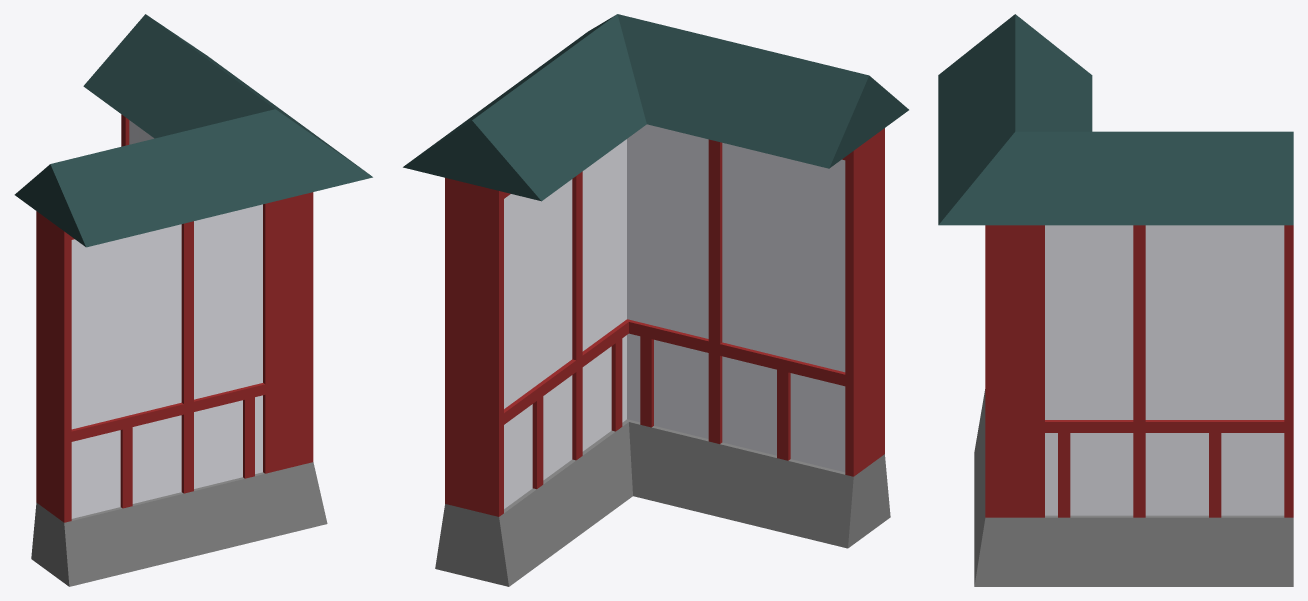
The model's file is Asian_Prop_Building_Fence_Wall_Framed_Corner_01.FBX.
The picture shows the model from 3 angles, left to right: view 1: azimuth 30°, elevation 25°; view 2: azimuth 150°, elevation 25°; view 3: azimuth 270°, elevation 25°; orthographic projection. The views are drawn at different scales.
Visible parts, largest first — view 1: Asian_Prop_Building_Fence_Wall_Framed_Corner_01; view 2: Asian_Prop_Building_Fence_Wall_Framed_Corner_01; view 3: Asian_Prop_Building_Fence_Wall_Framed_Corner_01.
Boxes of the visible parts, bbox=[...] form: Asian_Prop_Building_Fence_Wall_Framed_Corner_01: bbox=[14, 14, 372, 586]; Asian_Prop_Building_Fence_Wall_Framed_Corner_01: bbox=[403, 14, 908, 586]; Asian_Prop_Building_Fence_Wall_Framed_Corner_01: bbox=[938, 14, 1293, 586].
Bounding box in the file's own units: 2979 × 4051 × 2979.
